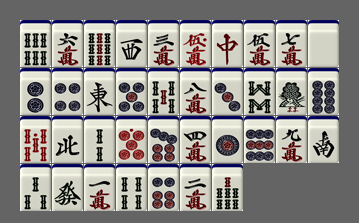0m: (180, 20, 211, 67)
0p: (116, 116, 147, 163)
0s: (20, 116, 51, 163)
1m: (84, 164, 115, 211)
1p: (212, 116, 243, 163)
1s: (276, 68, 307, 115)
1z: (84, 68, 115, 115)
2m: (180, 164, 211, 211)
2p: (20, 68, 51, 115)
2s: (84, 116, 115, 163)
2z: (308, 116, 339, 163)
3m: (148, 20, 179, 67)
3p: (212, 68, 243, 115)
3s: (20, 164, 51, 211)
3z: (116, 20, 147, 67)
4m: (180, 116, 211, 163)
4p: (52, 68, 83, 115)
4s: (116, 164, 147, 211)
4z: (52, 116, 83, 163)
5m: (244, 20, 275, 67)
5p: (116, 68, 147, 115)
5s: (148, 68, 179, 115)
5z: (308, 20, 339, 67)
6m: (52, 20, 83, 67)
6p: (148, 164, 179, 211)
6s: (20, 20, 51, 67)
6z: (52, 164, 83, 211)
7m: (276, 20, 307, 67)
7p: (148, 116, 179, 163)
7s: (212, 164, 243, 211)
7z: (212, 20, 243, 67)
8m: (180, 68, 211, 115)
8p: (308, 68, 339, 115)
8s: (244, 68, 275, 115)
9m: (276, 116, 307, 163)
9p: (244, 116, 275, 163)
9s: (84, 20, 115, 67)
